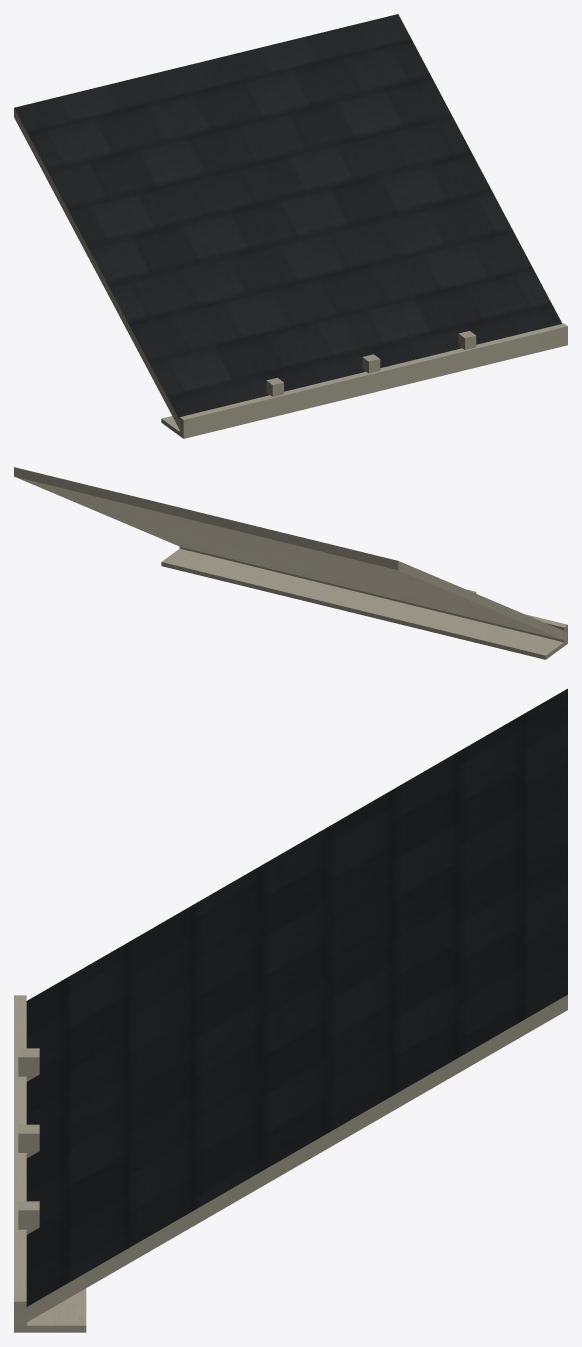
The model's file is house_04_roof_slope.glb.
3 views of the same model, one above another, from view 1: azimuth 30°, elevation 25°; view 2: azimuth 150°, elevation 25°; view 3: azimuth 270°, elevation 25° (orthographic). The views are drawn at different scales.
Visible parts, largest first — view 1: outdoor_house_04_roof_slope; view 2: outdoor_house_04_roof_slope; view 3: outdoor_house_04_roof_slope.
Part boxes in pixels (x1,y1,x2,y2): outdoor_house_04_roof_slope: [14, 14, 567, 438]; outdoor_house_04_roof_slope: [14, 467, 567, 659]; outdoor_house_04_roof_slope: [14, 688, 567, 1332].
Size of the model in its own units: 3.4 by 1.75 by 2.6.
1 material, 1 textured.
